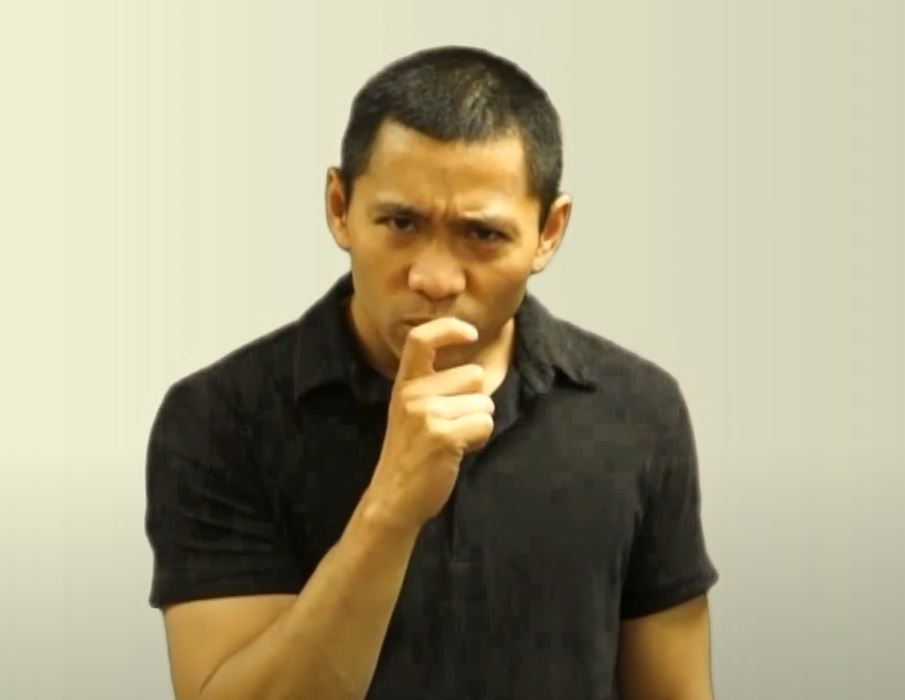who: (374, 314, 497, 493)
